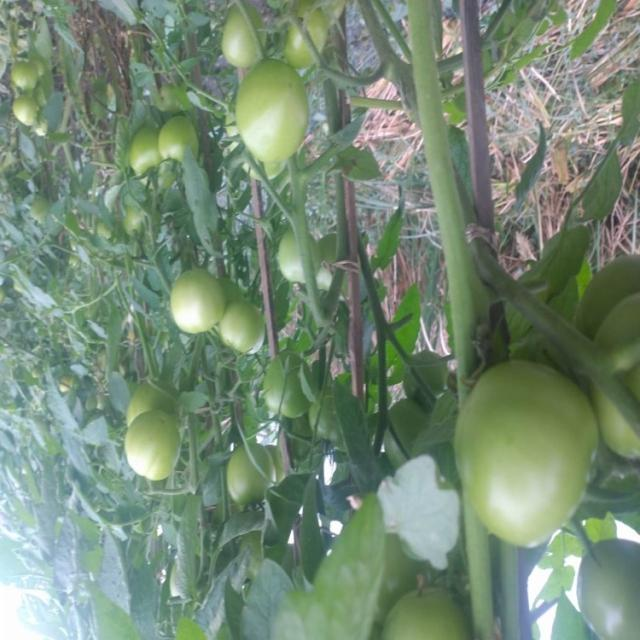tomato: (441, 350, 596, 544), (232, 63, 318, 166), (117, 415, 205, 506), (554, 234, 640, 320), (596, 290, 640, 453), (380, 585, 498, 640), (578, 537, 640, 640), (168, 266, 242, 349), (220, 437, 293, 513), (276, 9, 342, 73), (131, 131, 183, 194), (211, 301, 268, 356), (272, 234, 316, 300), (160, 113, 209, 163), (220, 7, 260, 67), (122, 377, 171, 424), (17, 101, 59, 134), (6, 58, 43, 84)
